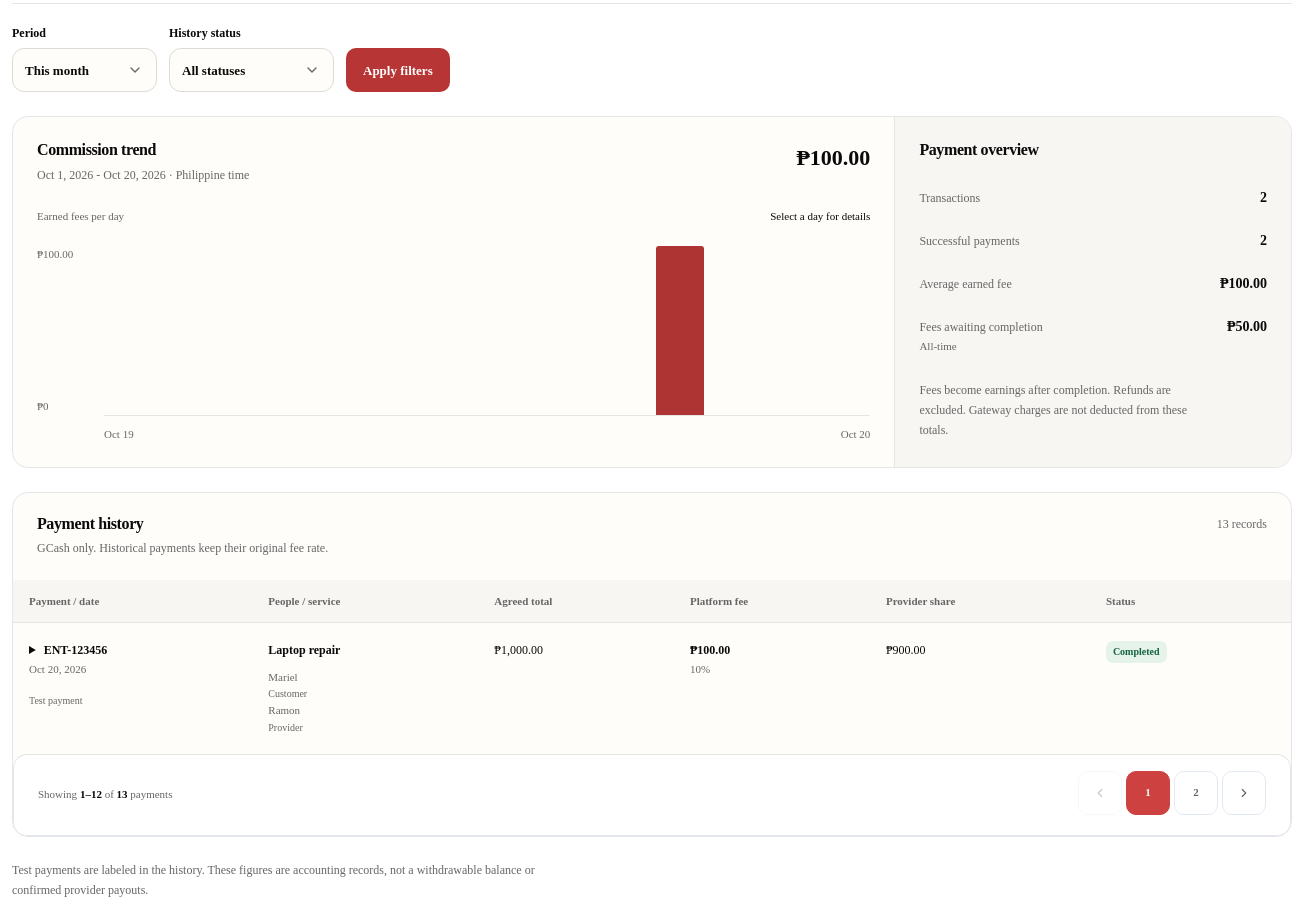
Test case: admin GCash earnings › shows real server fee/share figures, distinguishes test payments and keeps references collapsed
(page scrolled)
Expected: the text "Laptop repair" is shown, [268,643,340,657]
Expected: the text "₱1,000.00" is shown, [478,623,674,754]
Click the text "ENT-123456" at (76,650), box [44,643,107,657]
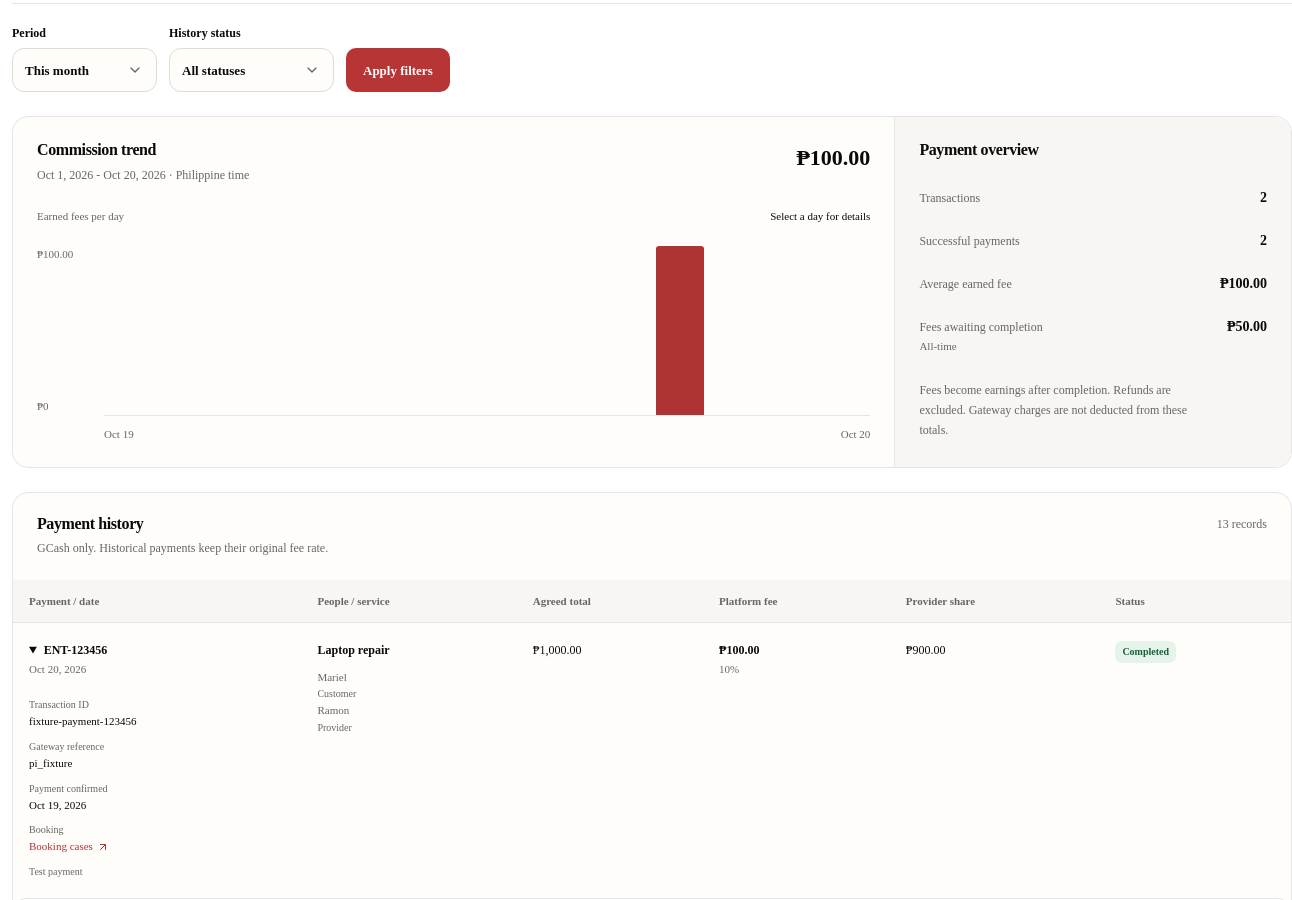
Now the text "pi_fixture" is shown, box [29,757,72,769]
Focus the button named "Oct 20: ₱100.00" at (680,331), box [489,246,870,415]
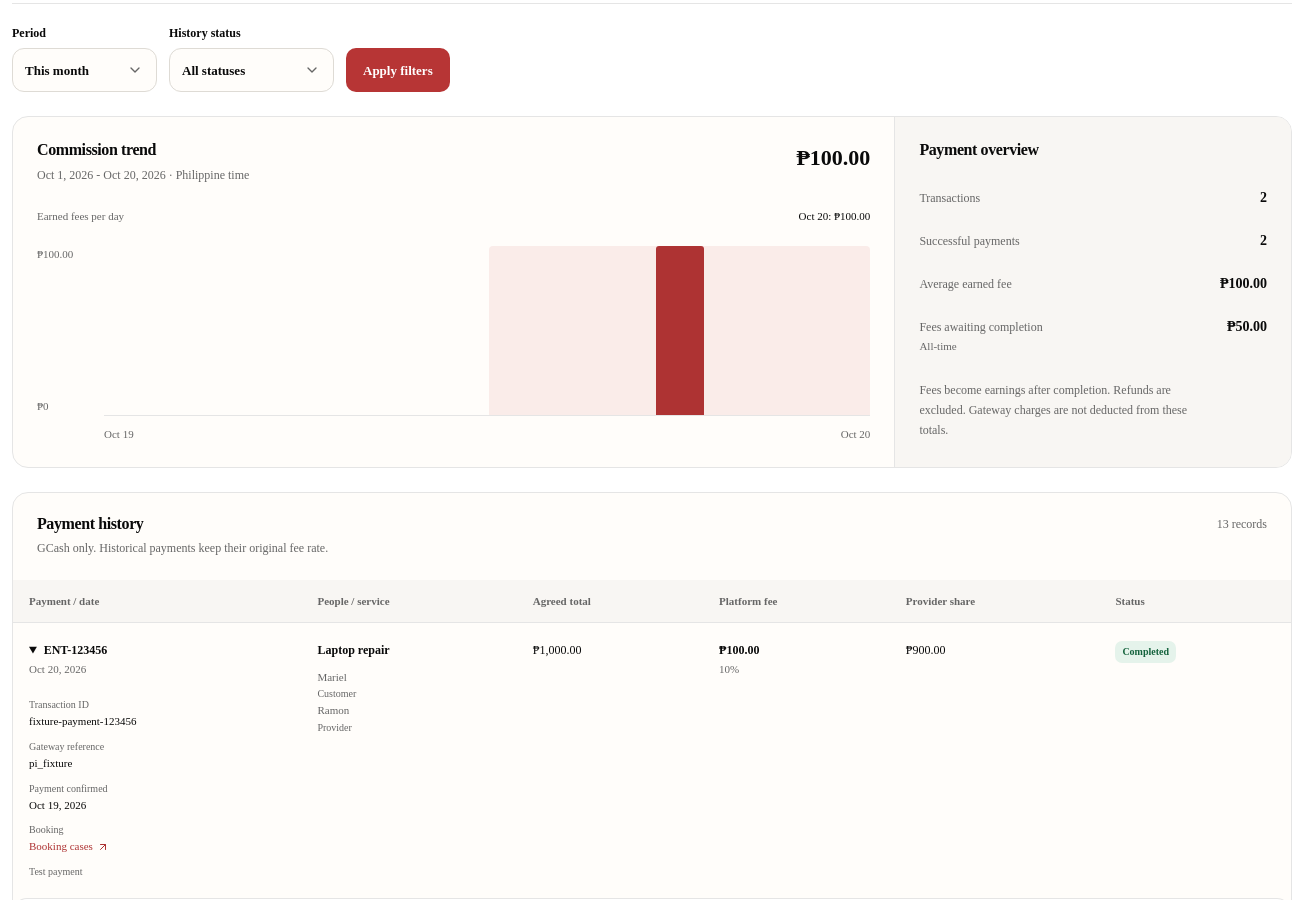
Now the text "Oct 20: ₱100.00" is shown, box [799,208,870,226]
